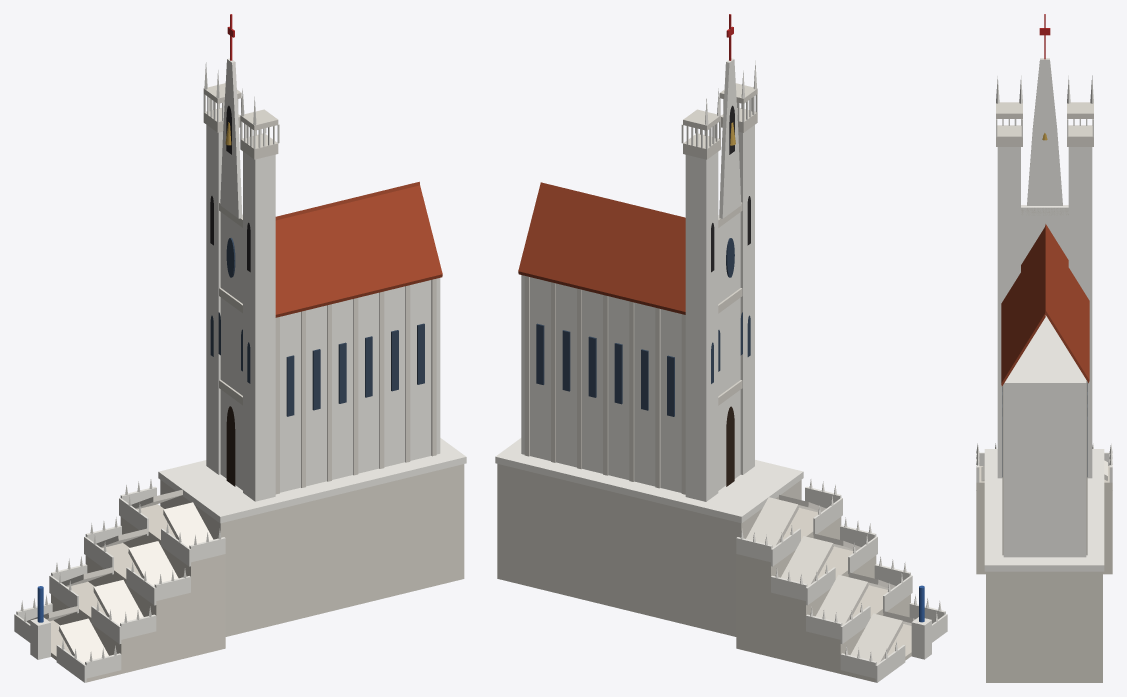
Rendered from church.glb.
The picture shows the model from 3 angles, left to right: view 1: azimuth 30°, elevation 25°; view 2: azimuth 150°, elevation 25°; view 3: azimuth 270°, elevation 25°; orthographic projection. The views are drawn at different scales.
Parts seen in each view (by area): view 1: Cube, Cube.002, m, Cube.035, Cube.001, Cube.055, Cube.075, Cube.029, Cube.080, Cube.085, m.002, m.011 (+12 smaller); view 2: Cube, Cube.002, m.001, Cube.055, Cube.001, Cube.029, Cube.035, Cube.075, Cube.080, Cube.085, m.002, m.012 (+11 smaller); view 3: Cube.002, Cube, Cube.001, Cube.035, Cube.055, m.001, m, m.002, Cube.029, Cube.075, Cube.056, Cube.036 (+4 smaller).
Part boxes in pixels (left/top/right/bottom): Cube: left=160, top=464, right=464, bottom=636; Cube.002: left=280, top=278, right=440, bottom=492; m: left=275, top=185, right=442, bottom=317; Cube.035: left=243, top=151, right=275, bottom=501; Cube.001: left=158, top=438, right=466, bottom=523; Cube.055: left=206, top=125, right=222, bottom=474; Cube.075: left=120, top=504, right=225, bottom=656; Cube.029: left=220, top=212, right=242, bottom=490; Cube.080: left=85, top=543, right=190, bottom=665; Cube.085: left=51, top=581, right=156, bottom=673; m.002: left=220, top=58, right=242, bottom=218; m.011: left=163, top=502, right=213, bottom=547; Cube: left=497, top=464, right=801, bottom=636; Cube.002: left=521, top=275, right=681, bottom=492; m.001: left=518, top=182, right=685, bottom=314; Cube.055: left=685, top=152, right=718, bottom=501; Cube.001: left=495, top=438, right=803, bottom=523; Cube.029: left=718, top=212, right=740, bottom=490; Cube.035: left=738, top=125, right=754, bottom=474; Cube.075: left=736, top=507, right=841, bottom=656; Cube.080: left=771, top=546, right=876, bottom=665; Cube.085: left=806, top=585, right=910, bottom=673; m.002: left=719, top=58, right=741, bottom=218; m.012: left=746, top=497, right=798, bottom=547; Cube.002: left=1003, top=315, right=1086, bottom=557; Cube: left=986, top=571, right=1102, bottom=682; Cube.001: left=984, top=449, right=1104, bottom=571; Cube.035: left=997, top=147, right=1020, bottom=478; Cube.055: left=1068, top=147, right=1092, bottom=478; m.001: left=1045, top=224, right=1089, bottom=383; m: left=1001, top=227, right=1045, bottom=386; m.002: left=1027, top=58, right=1062, bottom=205; Cube.029: left=1021, top=206, right=1068, bottom=264; Cube.075: left=976, top=466, right=1112, bottom=574; Cube.056: left=1067, top=125, right=1093, bottom=146; Cube.036: left=996, top=125, right=1022, bottom=146.
Bounding box in the file's own units: 92.3 × 132 × 28.1.
